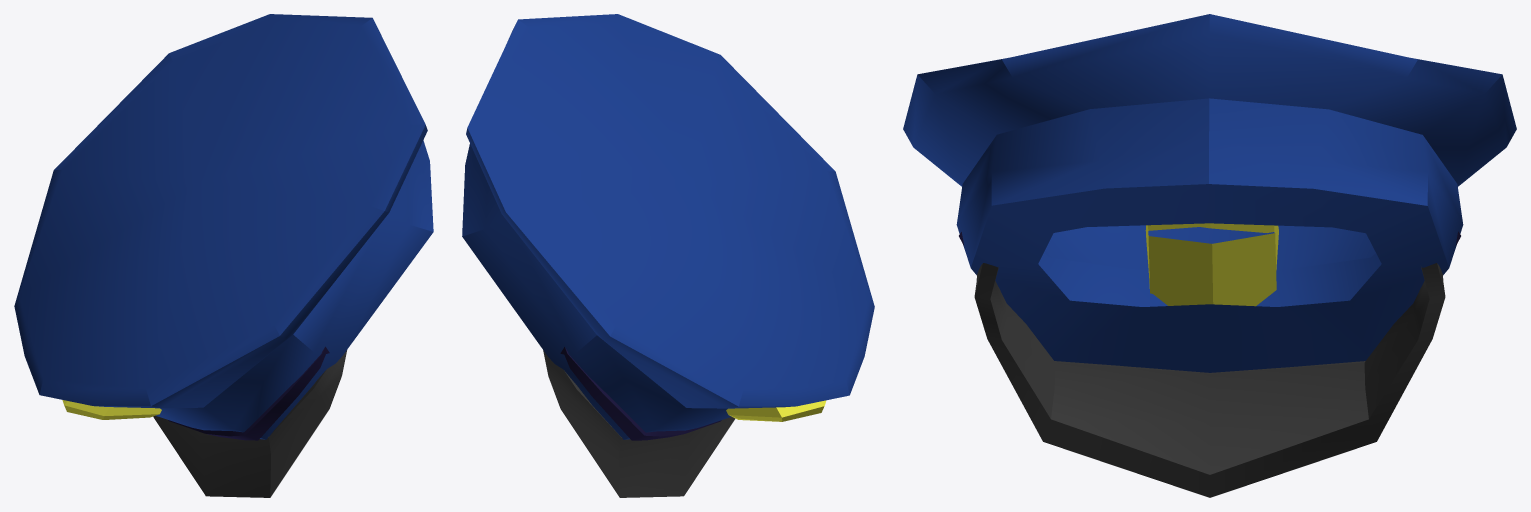
Rendered from hat_police.fbx.
3 renders of one model, left to right at view 1: azimuth 30°, elevation 25°; view 2: azimuth 150°, elevation 25°; view 3: azimuth 270°, elevation 25°, orthographic. The views are drawn at different scales.
Parts seen in each view (by area): view 1: costume_police.001; view 2: costume_police.001; view 3: costume_police.001.
Boxes of the visible parts, x1,y1,x2,y2 form: costume_police.001: (14, 14, 433, 497); costume_police.001: (462, 14, 874, 497); costume_police.001: (903, 14, 1516, 497).
Bounding box in the file's own units: 0.8552 × 0.9547 × 0.894.
